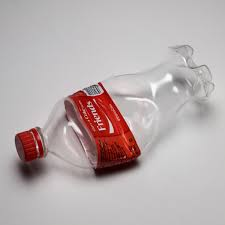Coca-Cola: (71, 82, 140, 172), (65, 84, 137, 153), (89, 99, 134, 171), (82, 89, 92, 126)
bottle: (15, 47, 214, 169)
plastic: (15, 44, 216, 174)
